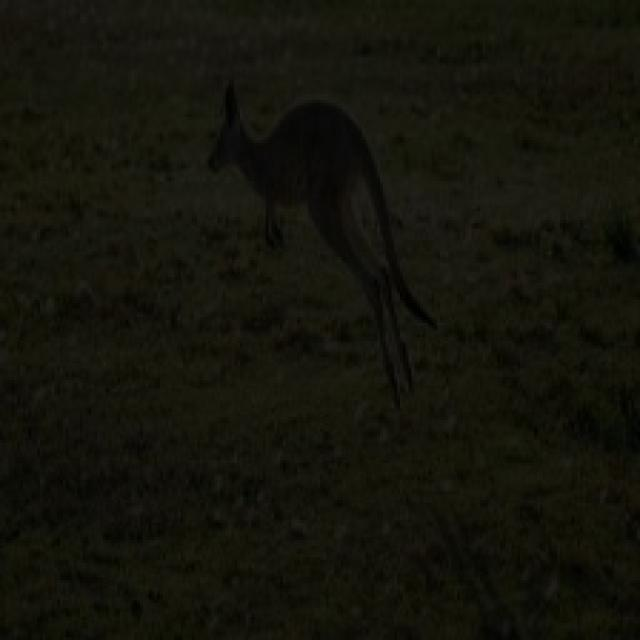animal: (155, 71, 500, 409)
